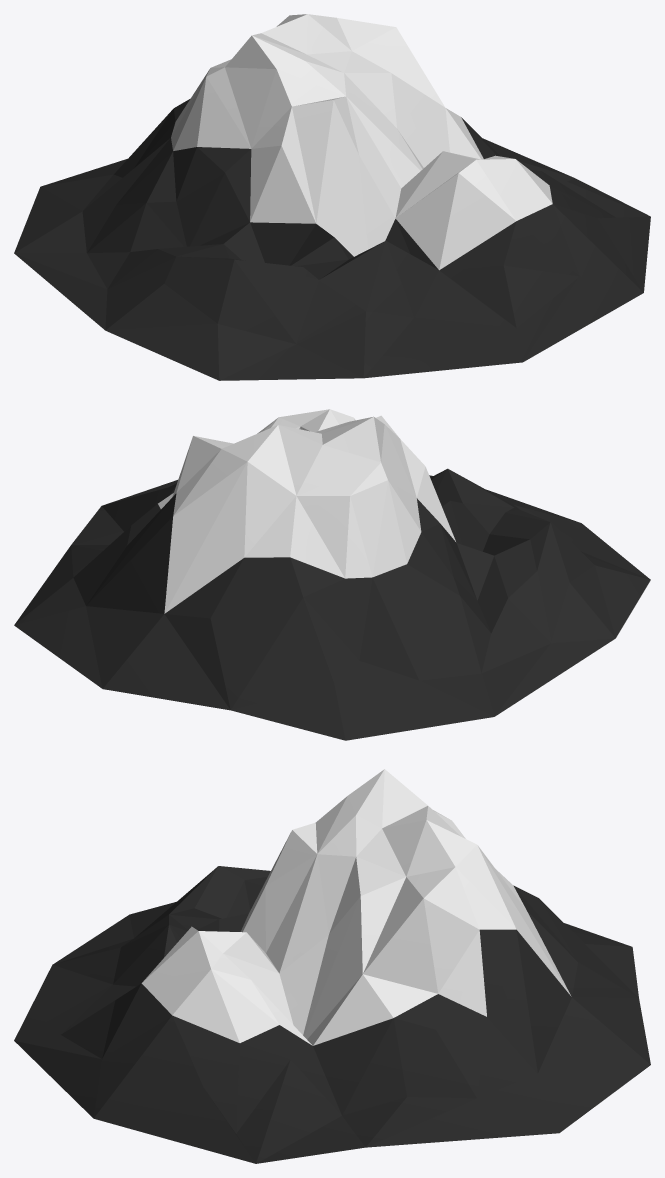
Rendered from mountain.fbx.
3 views of the same model, one above another, from view 1: azimuth 30°, elevation 25°; view 2: azimuth 150°, elevation 25°; view 3: azimuth 270°, elevation 25° (orthographic). The views are drawn at different scales.
Visible parts, largest first — view 1: Landscape; view 2: Landscape; view 3: Landscape.
Boxes of the visible parts, x1,y1,x2,y2 form: Landscape: (14, 14, 650, 380); Landscape: (14, 409, 650, 740); Landscape: (14, 769, 650, 1163).
Size of the model in its own units: 72.27 by 28.31 by 72.5.
